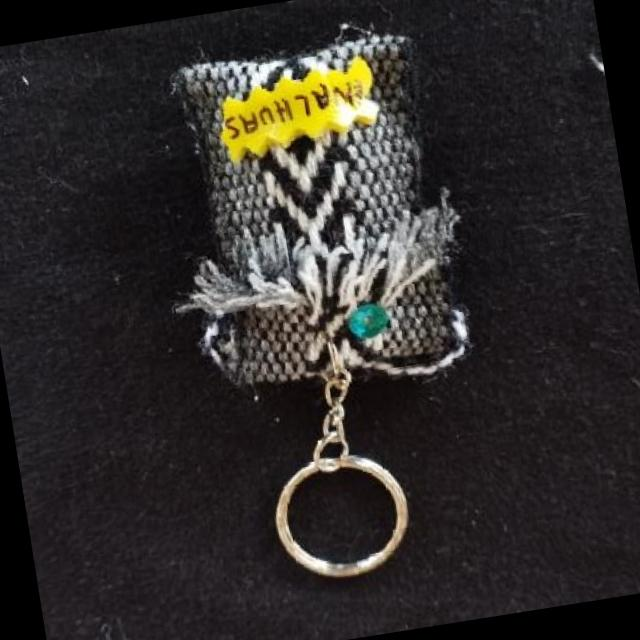Llavero: (137, 19, 486, 416)
